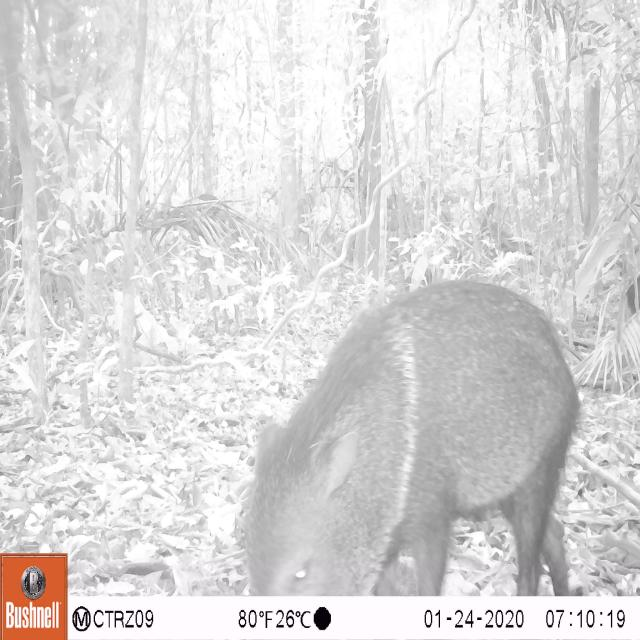Collared Peccary: (242, 273, 578, 591)
